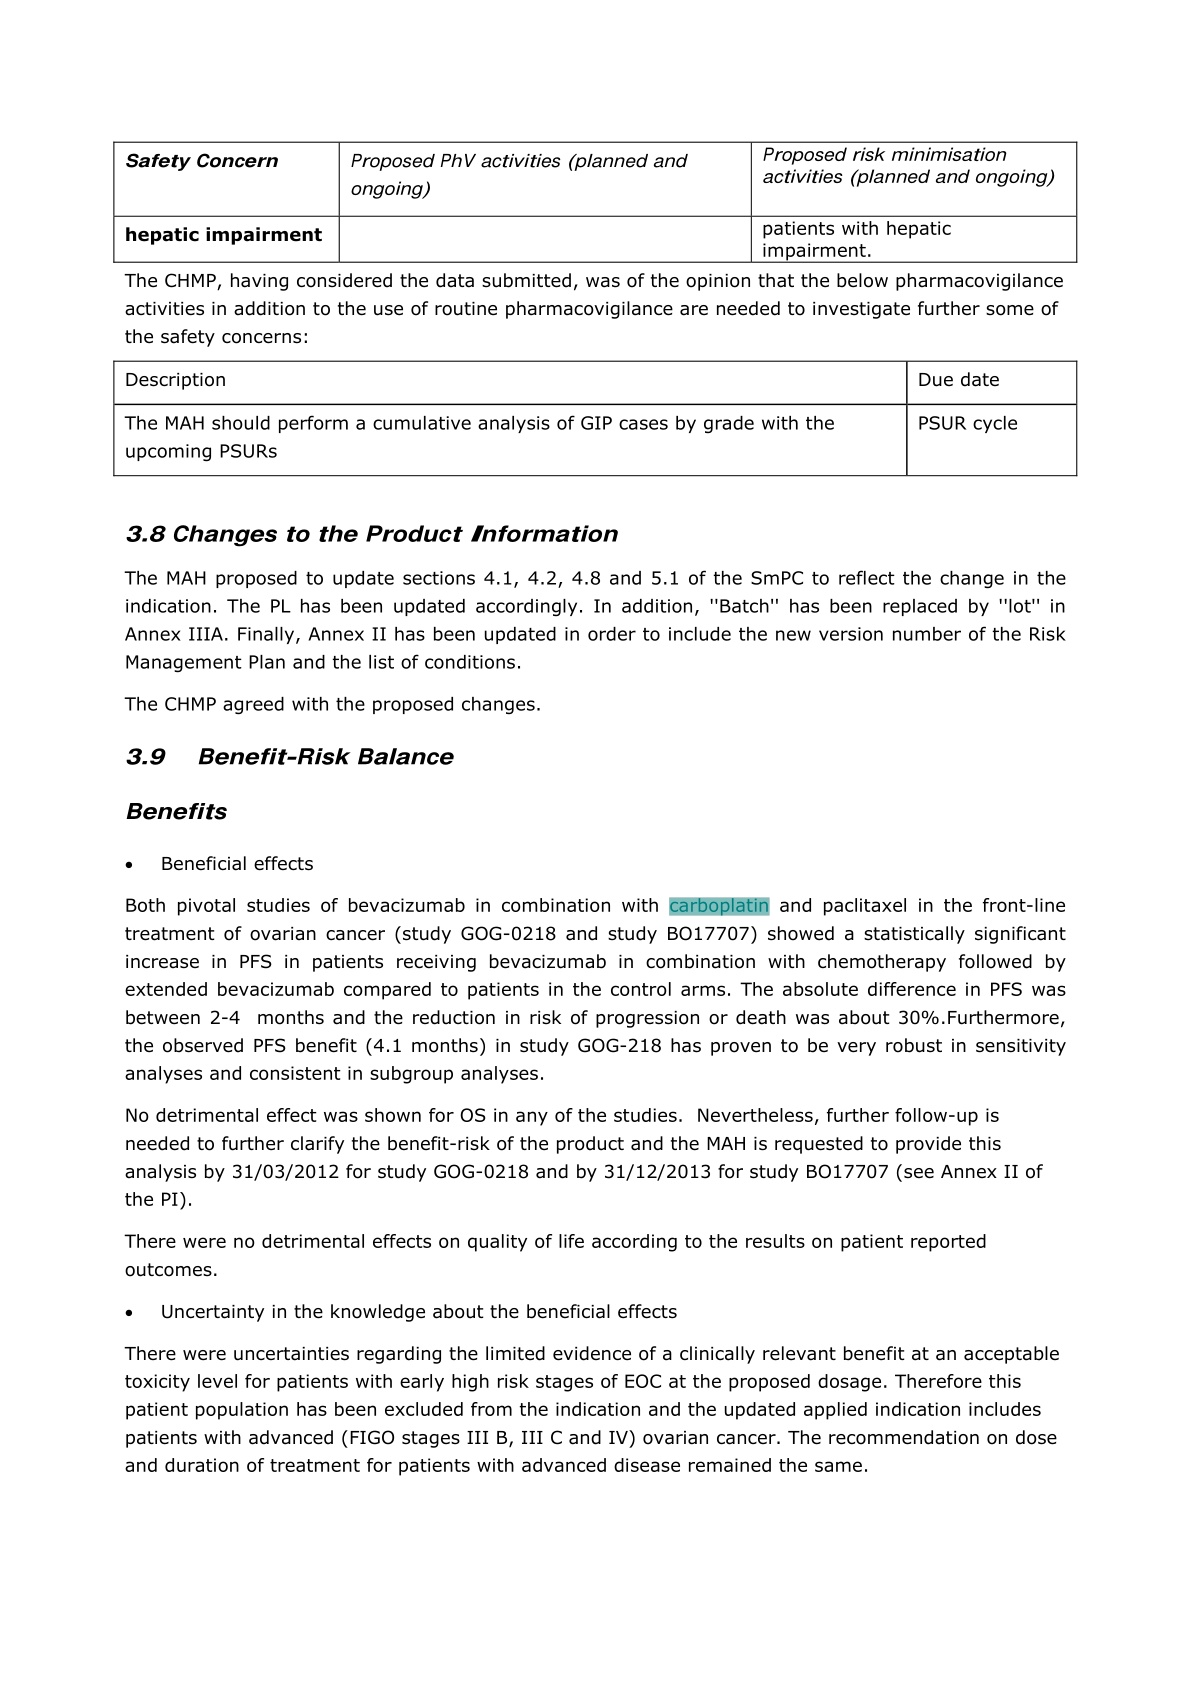full_lined: (112, 139, 1079, 265), (112, 358, 1078, 478)
